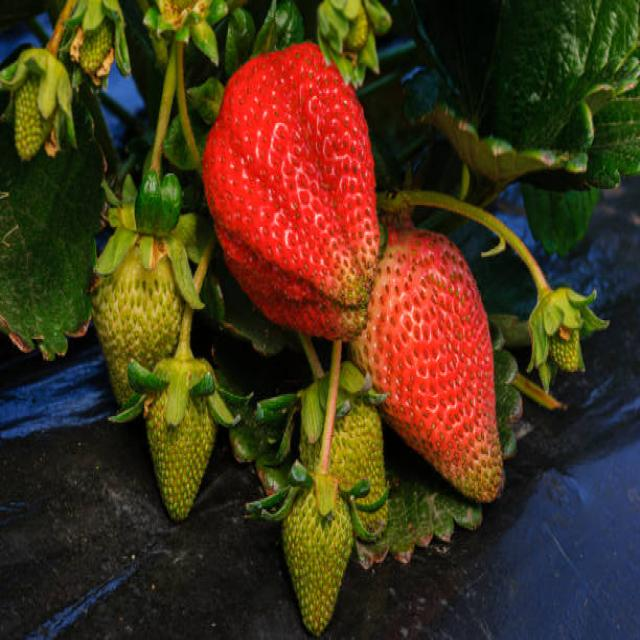Healthy Fruit: (203, 44, 378, 339), (353, 223, 505, 501), (94, 239, 184, 406), (281, 483, 354, 633), (144, 377, 218, 522), (301, 400, 387, 508)
